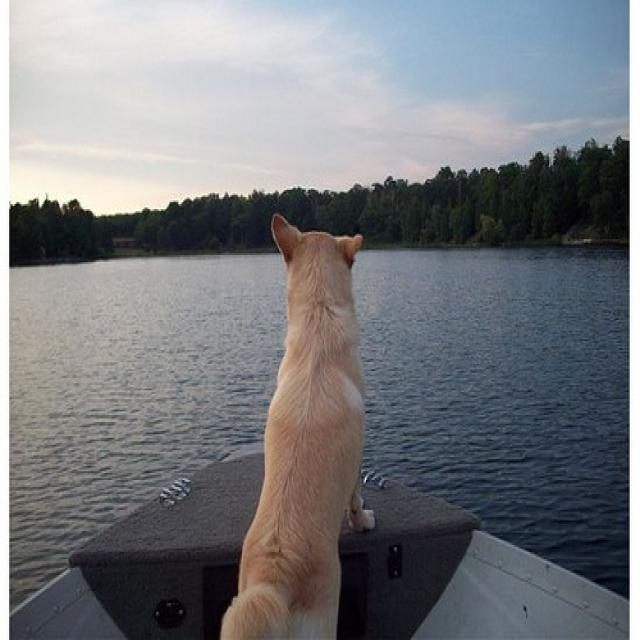dog: (219, 213, 379, 638)
